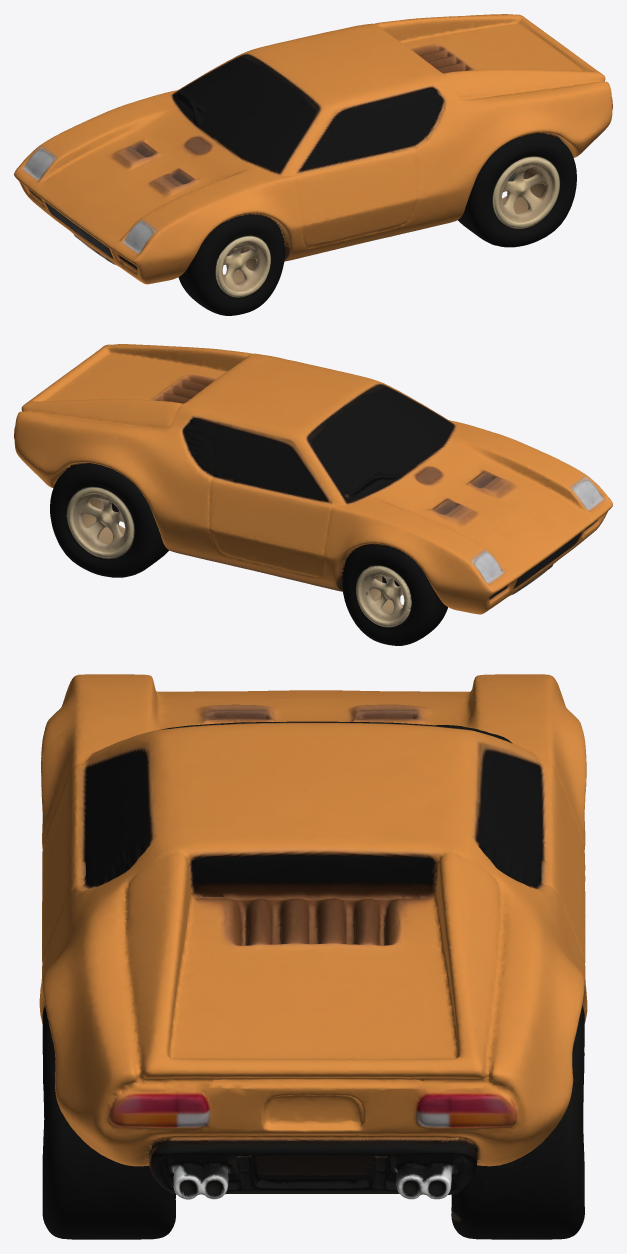
File: cars_gemini_cat.glb
3 renders of one model, top to bottom at view 1: azimuth 30°, elevation 25°; view 2: azimuth 150°, elevation 25°; view 3: azimuth 270°, elevation 25°, orthographic. The views are drawn at different scales.
Size of the model in its own units: 1.9 by 0.617 by 0.9121.
Materials: 1 (1 with a texture image).
